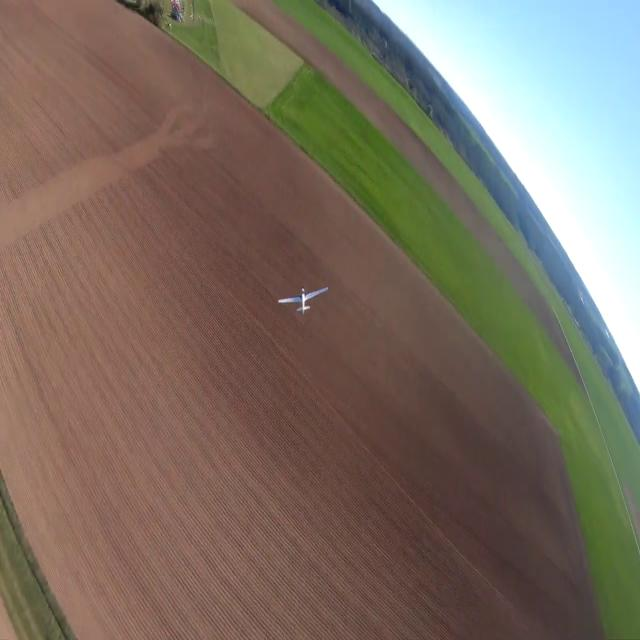iha: (276, 284, 329, 318)
